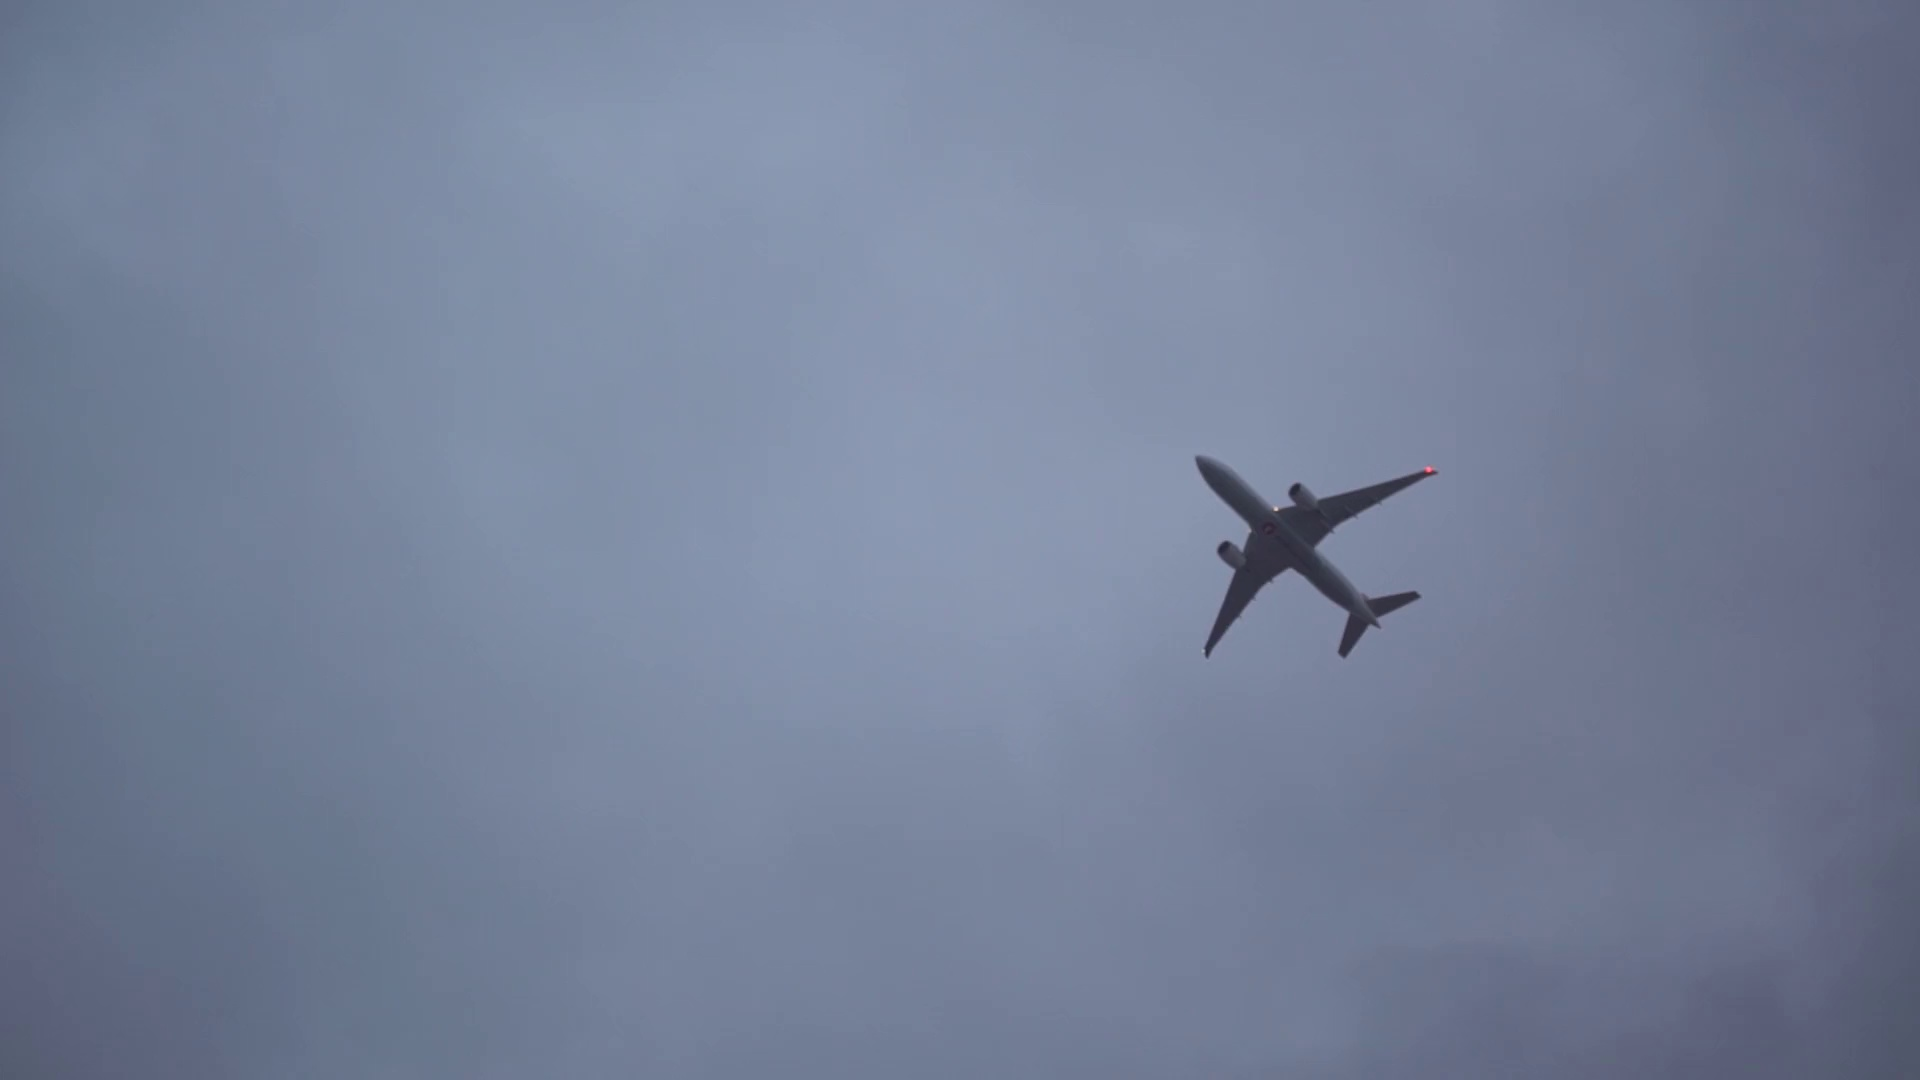plane: (1193, 458, 1437, 663)
